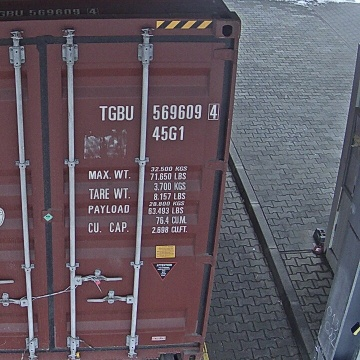serial_id: (99, 104, 217, 120)
